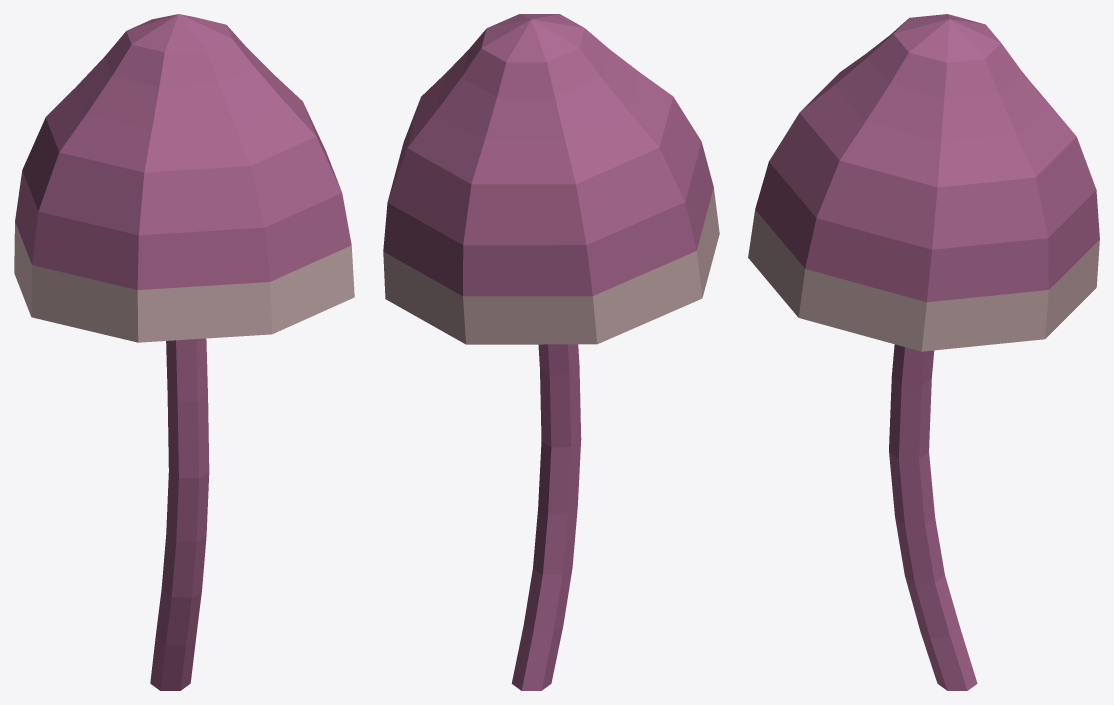
Rendered from Mushroom_Purple_1.fbx.
3 renders of one model, left to right at view 1: azimuth 30°, elevation 25°; view 2: azimuth 150°, elevation 25°; view 3: azimuth 270°, elevation 25°, orthographic.
Parts seen in each view (by area): view 1: Cylinder.005; view 2: Cylinder.005; view 3: Cylinder.005.
Boxes of the visible parts, bbox=[...] form: Cylinder.005: bbox=[14, 14, 354, 690]; Cylinder.005: bbox=[383, 14, 719, 690]; Cylinder.005: bbox=[748, 14, 1099, 690].
Size of the model in its own units: 6.16 by 12.94 by 6.19.
